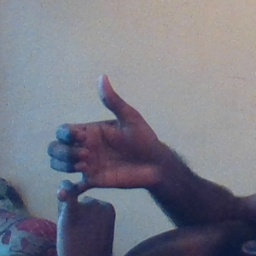S: (43, 72, 165, 242)
